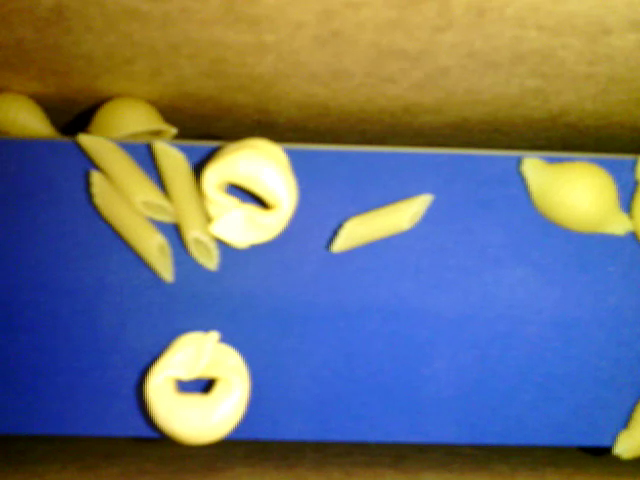penne: (84, 167, 173, 280), (72, 132, 176, 220), (153, 140, 217, 275), (328, 193, 431, 257)
shell: (517, 155, 634, 236), (89, 95, 177, 141), (1, 93, 69, 138)
tortellini: (135, 326, 253, 443), (200, 133, 296, 250)
